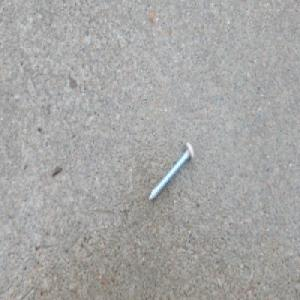Nail: (146, 139, 196, 205)
